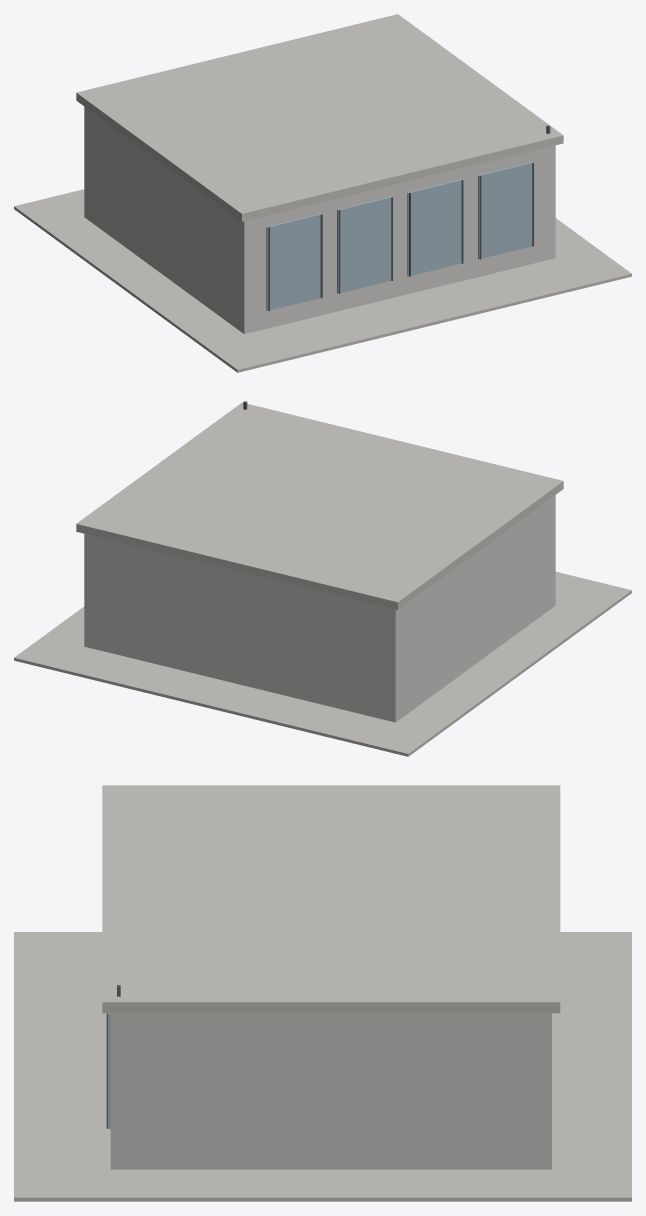
The model's file is modern-compact.glb.
The picture shows the model from 3 angles, top to bottom: view 1: azimuth 30°, elevation 25°; view 2: azimuth 150°, elevation 25°; view 3: azimuth 270°, elevation 25°; orthographic projection. The views are drawn at different scales.
Parts seen in each view (by area): view 1: House; view 2: House; view 3: House.
Boxes of the visible parts, box(x1,y1,x2,y2) form: House: box(14, 14, 631, 372); House: box(14, 401, 631, 756); House: box(14, 785, 631, 1201).
Size of the model in its own units: 11.4 by 3.7 by 11.2.
